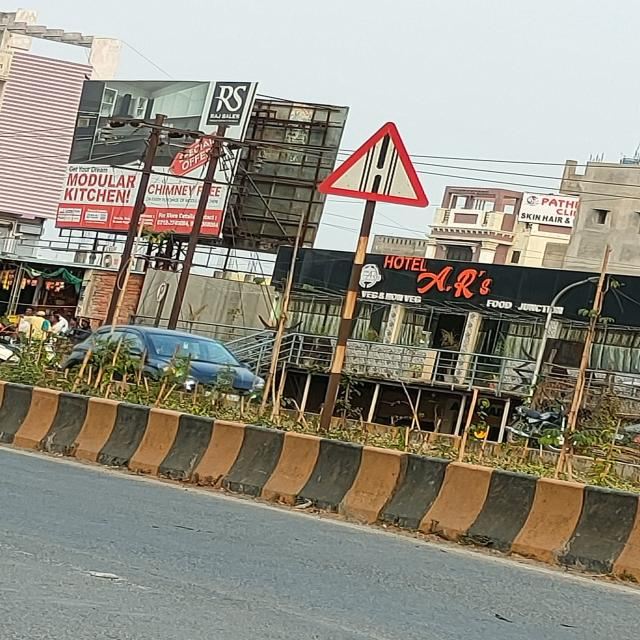ferry: (314, 120, 431, 207)
